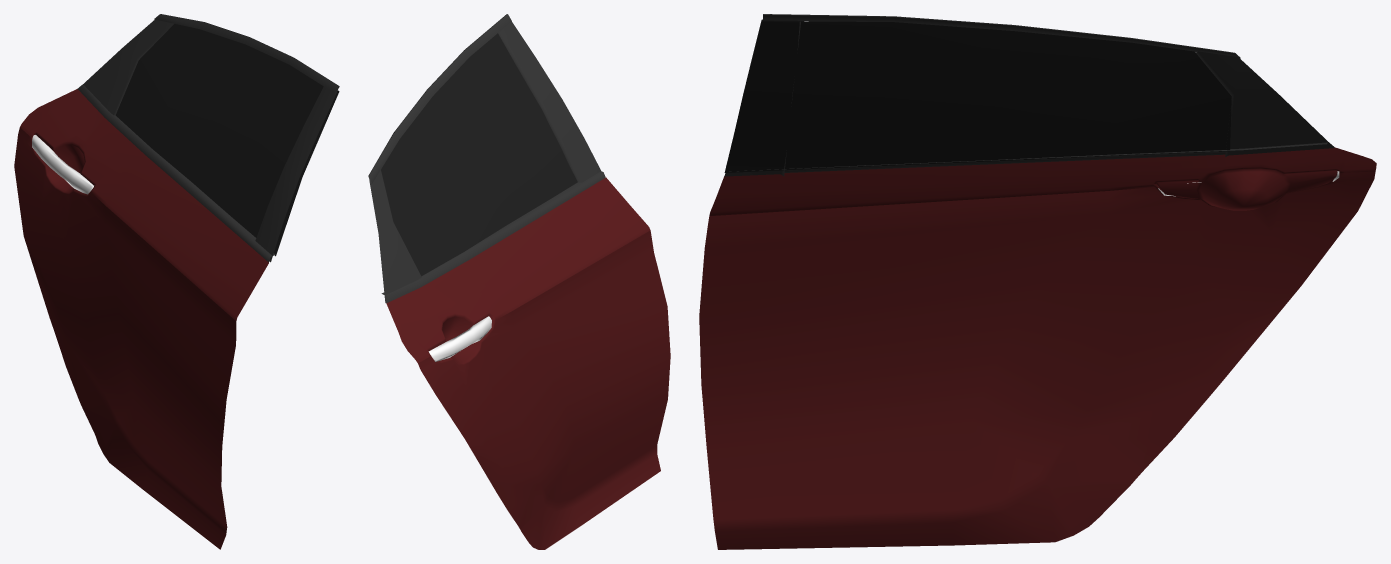
The model's file is Honda_Civic_RB_Door.glb.
The picture shows the model from 3 angles, left to right: view 1: azimuth 30°, elevation 25°; view 2: azimuth 150°, elevation 25°; view 3: azimuth 270°, elevation 25°; orthographic projection. The views are drawn at different scales.
Parts seen in each view (by area): view 1: Mesh_Honda_Civic_RB_Door; view 2: Mesh_Honda_Civic_RB_Door; view 3: Mesh_Honda_Civic_RB_Door.
Boxes of the visible parts, left/top/right/bottom form: Mesh_Honda_Civic_RB_Door: left=14, top=14, right=339, bottom=549; Mesh_Honda_Civic_RB_Door: left=368, top=14, right=670, bottom=549; Mesh_Honda_Civic_RB_Door: left=699, top=14, right=1376, bottom=549.
Bounding box in the file's own units: 17.2 × 50.04 × 48.47.
